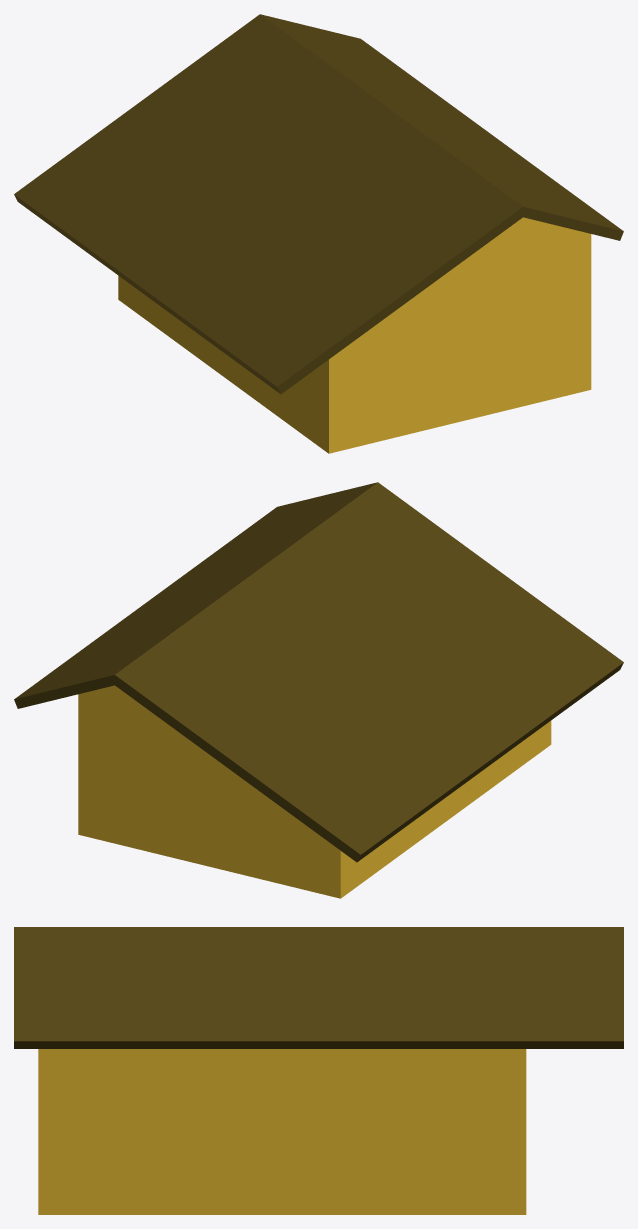
Rendered from result.dae.
3 views of the same model, one above another, from view 1: azimuth 30°, elevation 25°; view 2: azimuth 150°, elevation 25°; view 3: azimuth 270°, elevation 25° (orthographic). The views are drawn at different scales.
Parts seen in each view (by area): view 1: 192ff3bb-348c-4110-b51c-5043b8777e30__undefined (×5), 6b478332-2a01-4498-9cce-07880f20a56e__undefined (×2); view 2: 192ff3bb-348c-4110-b51c-5043b8777e30__undefined (×5), 6b478332-2a01-4498-9cce-07880f20a56e__undefined (×2); view 3: 6b478332-2a01-4498-9cce-07880f20a56e__undefined, 192ff3bb-348c-4110-b51c-5043b8777e30__undefined (×2).
Part boxes in pixels (<box>): 192ff3bb-348c-4110-b51c-5043b8777e30__undefined (×5): <box>14,14,623,394</box>; 6b478332-2a01-4498-9cce-07880f20a56e__undefined (×2): <box>118,217,591,453</box>; 192ff3bb-348c-4110-b51c-5043b8777e30__undefined (×5): <box>14,482,623,862</box>; 6b478332-2a01-4498-9cce-07880f20a56e__undefined (×2): <box>78,685,551,898</box>; 6b478332-2a01-4498-9cce-07880f20a56e__undefined: <box>38,1049,526,1214</box>; 192ff3bb-348c-4110-b51c-5043b8777e30__undefined (×2): <box>14,927,623,1048</box>.
Bounding box in the file's own units: 951 × 550 × 1250.
